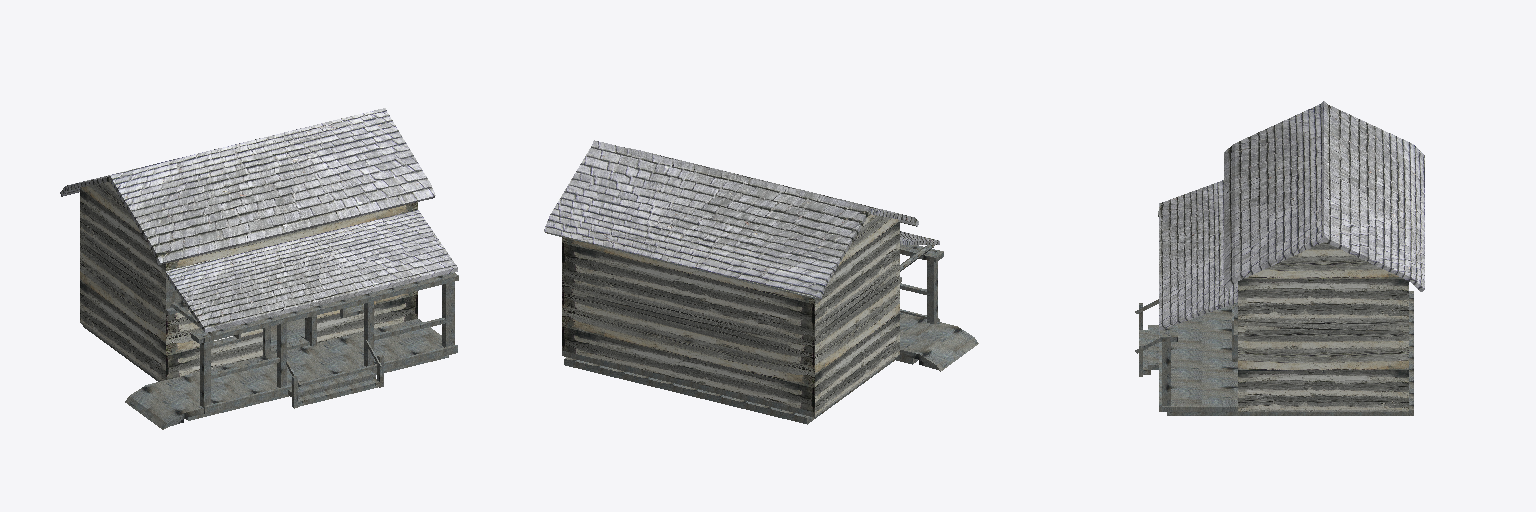
3 renders of one model, left to right at view 1: azimuth 30°, elevation 25°; view 2: azimuth 150°, elevation 25°; view 3: azimuth 270°, elevation 25°, orthographic.
Visible parts, largest first — view 1: log_cabbin; view 2: log_cabbin; view 3: log_cabbin.
Part boxes in pixels (x1,y1,x2,y2): log_cabbin: (60,108,458,429); log_cabbin: (544,140,978,424); log_cabbin: (1135,101,1424,415).
Bounding box in the file's own units: 16.97 × 10.14 × 14.03.
Materials: 5 (4 with a texture image).